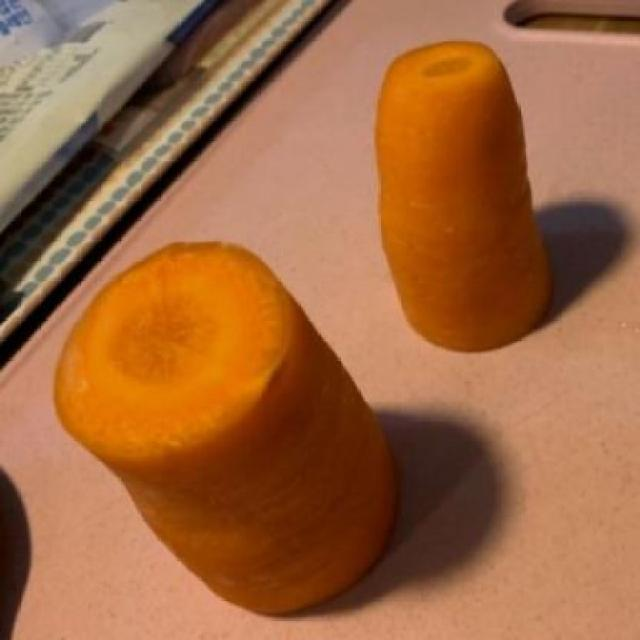carrot: (46, 234, 406, 623), (360, 36, 563, 359)
